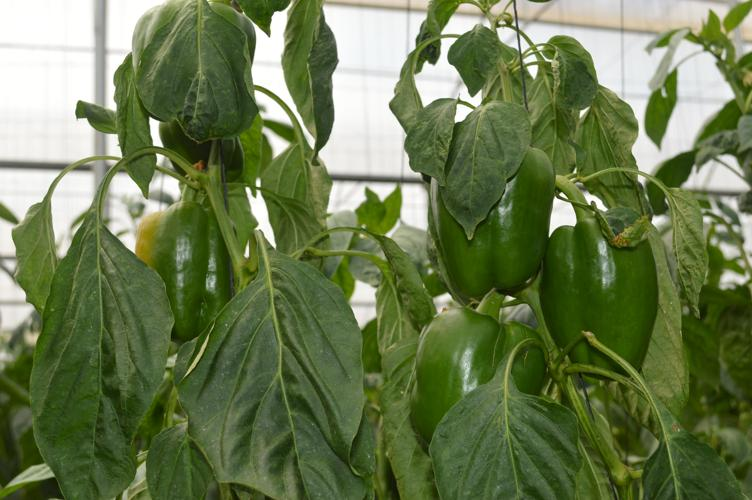BellPepper: (418, 146, 555, 299), (538, 219, 660, 382), (401, 304, 542, 441), (149, 202, 243, 335), (155, 111, 241, 187)
